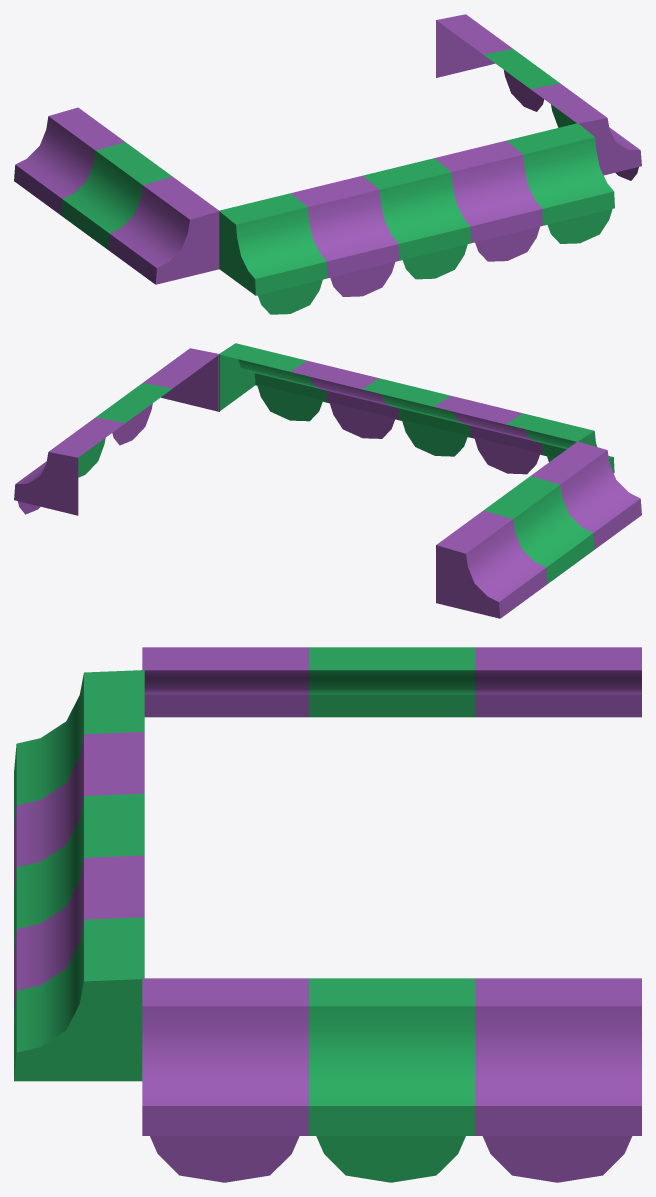
The model's file is shop01_upgrade2_s03.FBX.
3 views of the same model, one above another, from view 1: azimuth 30°, elevation 25°; view 2: azimuth 150°, elevation 25°; view 3: azimuth 270°, elevation 25° (orthographic). The views are drawn at different scales.
Visible parts, largest first — view 1: shop01_upgrade2_s03; view 2: shop01_upgrade2_s03; view 3: shop01_upgrade2_s03.
Part boxes in pixels (x1,y1,x2,y2): shop01_upgrade2_s03: (14, 14, 641, 314); shop01_upgrade2_s03: (14, 343, 641, 618); shop01_upgrade2_s03: (14, 647, 641, 1182).
Size of the model in its own units: 574 by 364 by 95.63.
Materials: 1 (1 with a texture image).
